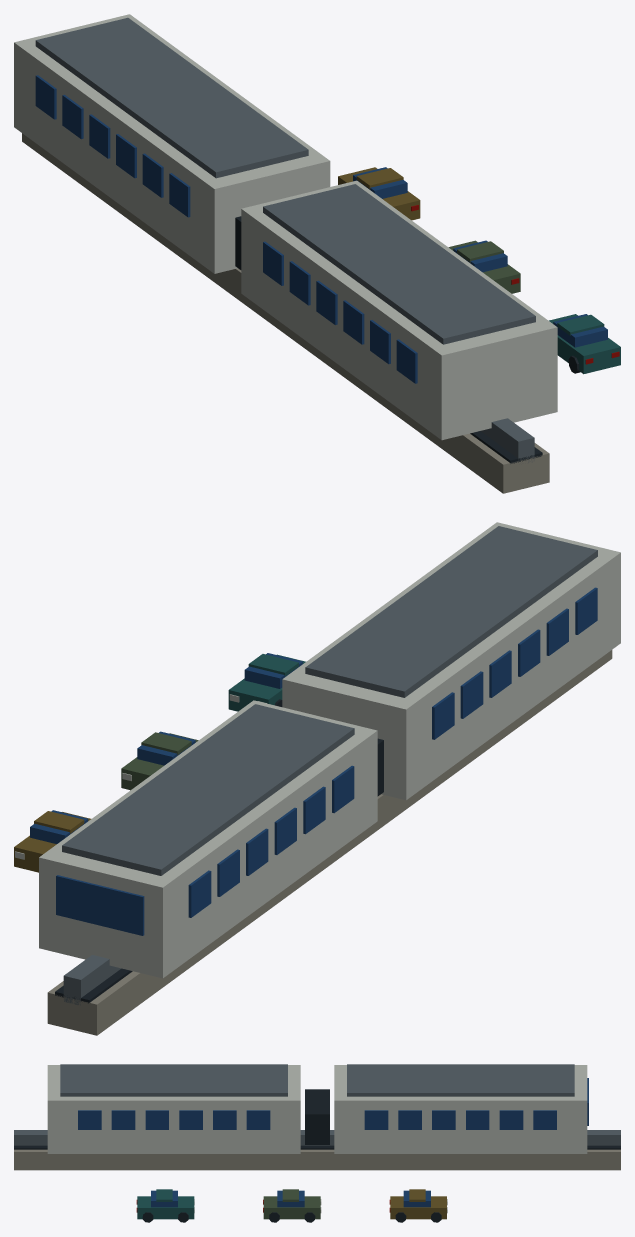
Rendered from maglevtrain1.glb.
3 views of the same model, one above another, from view 1: azimuth 30°, elevation 25°; view 2: azimuth 150°, elevation 25°; view 3: azimuth 270°, elevation 25° (orthographic). The views are drawn at different scales.
Visible parts, largest first — view 1: maglevtrain1; view 2: maglevtrain1; view 3: maglevtrain1.
Boxes of the visible parts, x1,y1,x2,y2 form: maglevtrain1: [14, 14, 620, 493]; maglevtrain1: [14, 522, 620, 1035]; maglevtrain1: [14, 1064, 620, 1222].
Bounding box in the file's own units: 22 × 11.05 × 72.
